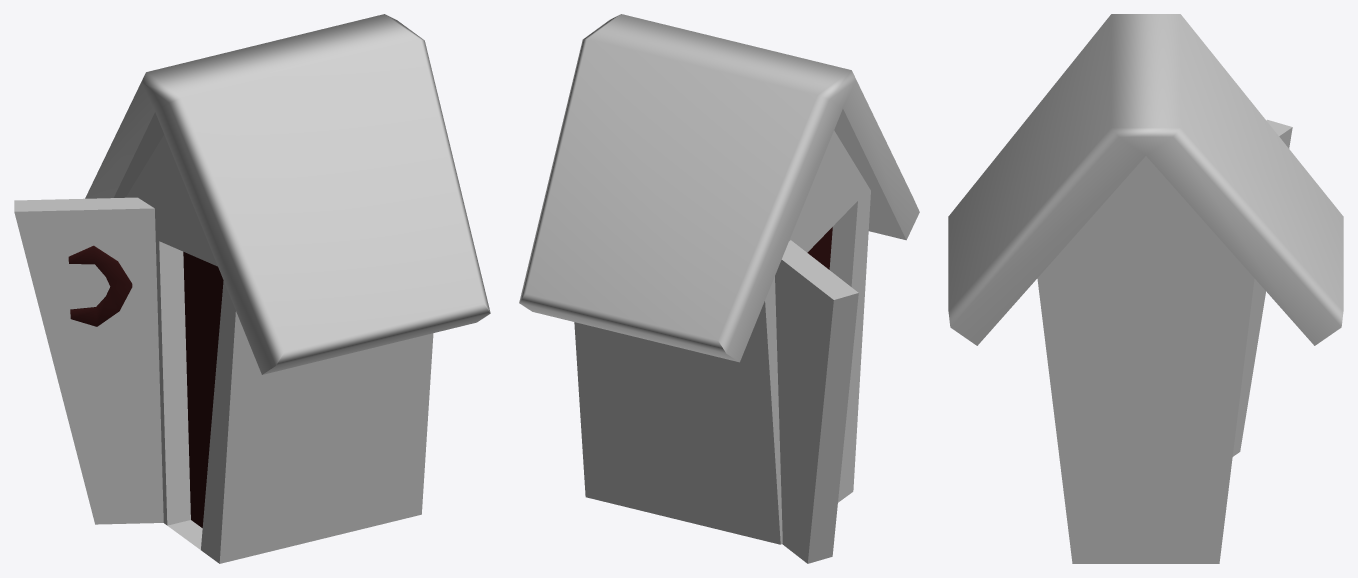
Rendered from SpawnToilet.fbx.
The picture shows the model from 3 angles, left to right: view 1: azimuth 30°, elevation 25°; view 2: azimuth 150°, elevation 25°; view 3: azimuth 270°, elevation 25°; orthographic projection. The views are drawn at different scales.
Visible parts, largest first — view 1: SpawnToilet; view 2: SpawnToilet; view 3: SpawnToilet.
Boxes of the visible parts, box(x1,y1,x2,y2) form: SpawnToilet: box(14, 14, 490, 563); SpawnToilet: box(519, 14, 919, 563); SpawnToilet: box(948, 14, 1343, 563).
Size of the model in its own units: 156 by 204 by 163.
